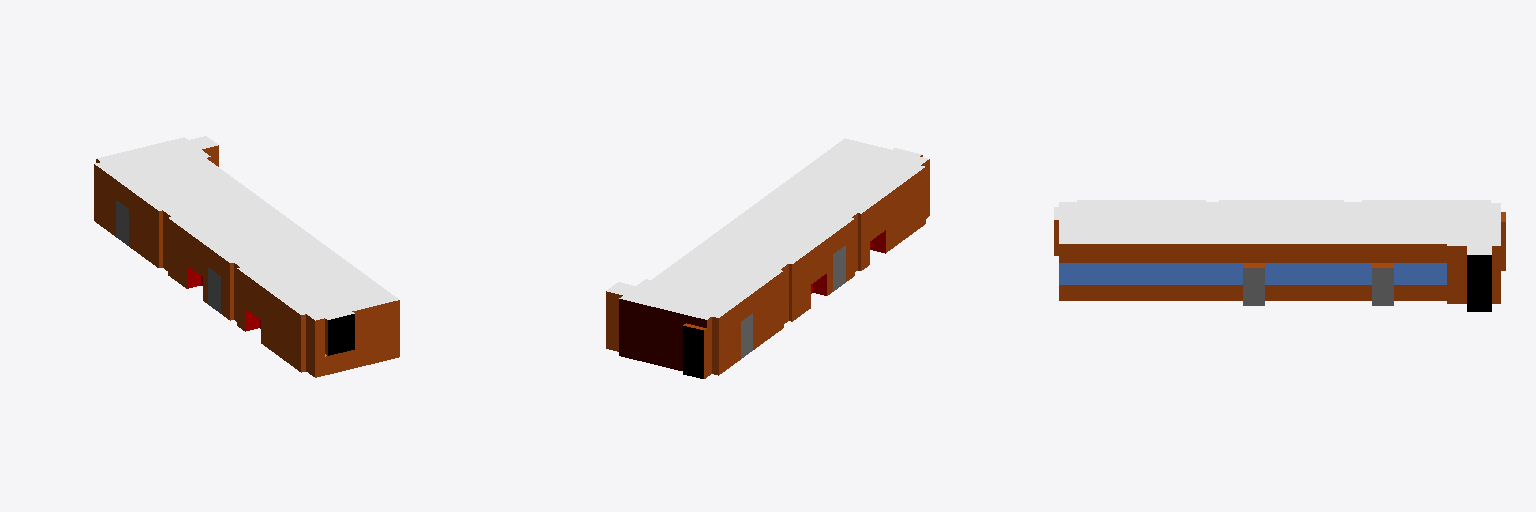
Rendered from korytarz.obj.
3 renders of one model, left to right at view 1: azimuth 30°, elevation 25°; view 2: azimuth 150°, elevation 25°; view 3: azimuth 270°, elevation 25°, orthographic.
Visible parts, largest first — view 1: Drzwi_ID179.004; view 2: Drzwi_ID179.004; view 3: Drzwi_ID179.004.
Boxes of the visible parts, x1=… form: Drzwi_ID179.004: x1=94, y1=136, x2=399, y2=377; Drzwi_ID179.004: x1=606, y1=138, x2=929, y2=378; Drzwi_ID179.004: x1=1054, y1=200, x2=1505, y2=311.
Size of the model in its own units: 6.57 by 3.2 by 22.87.